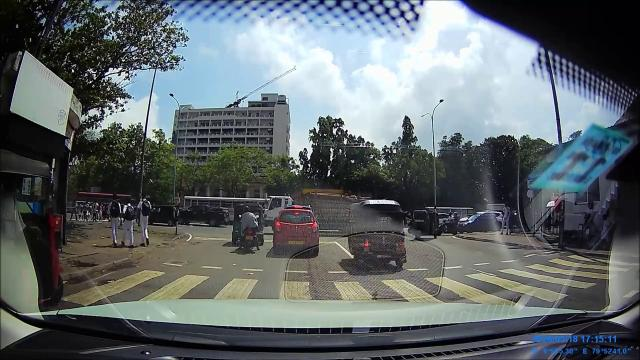illegal overtaking: (340, 195, 413, 273)
